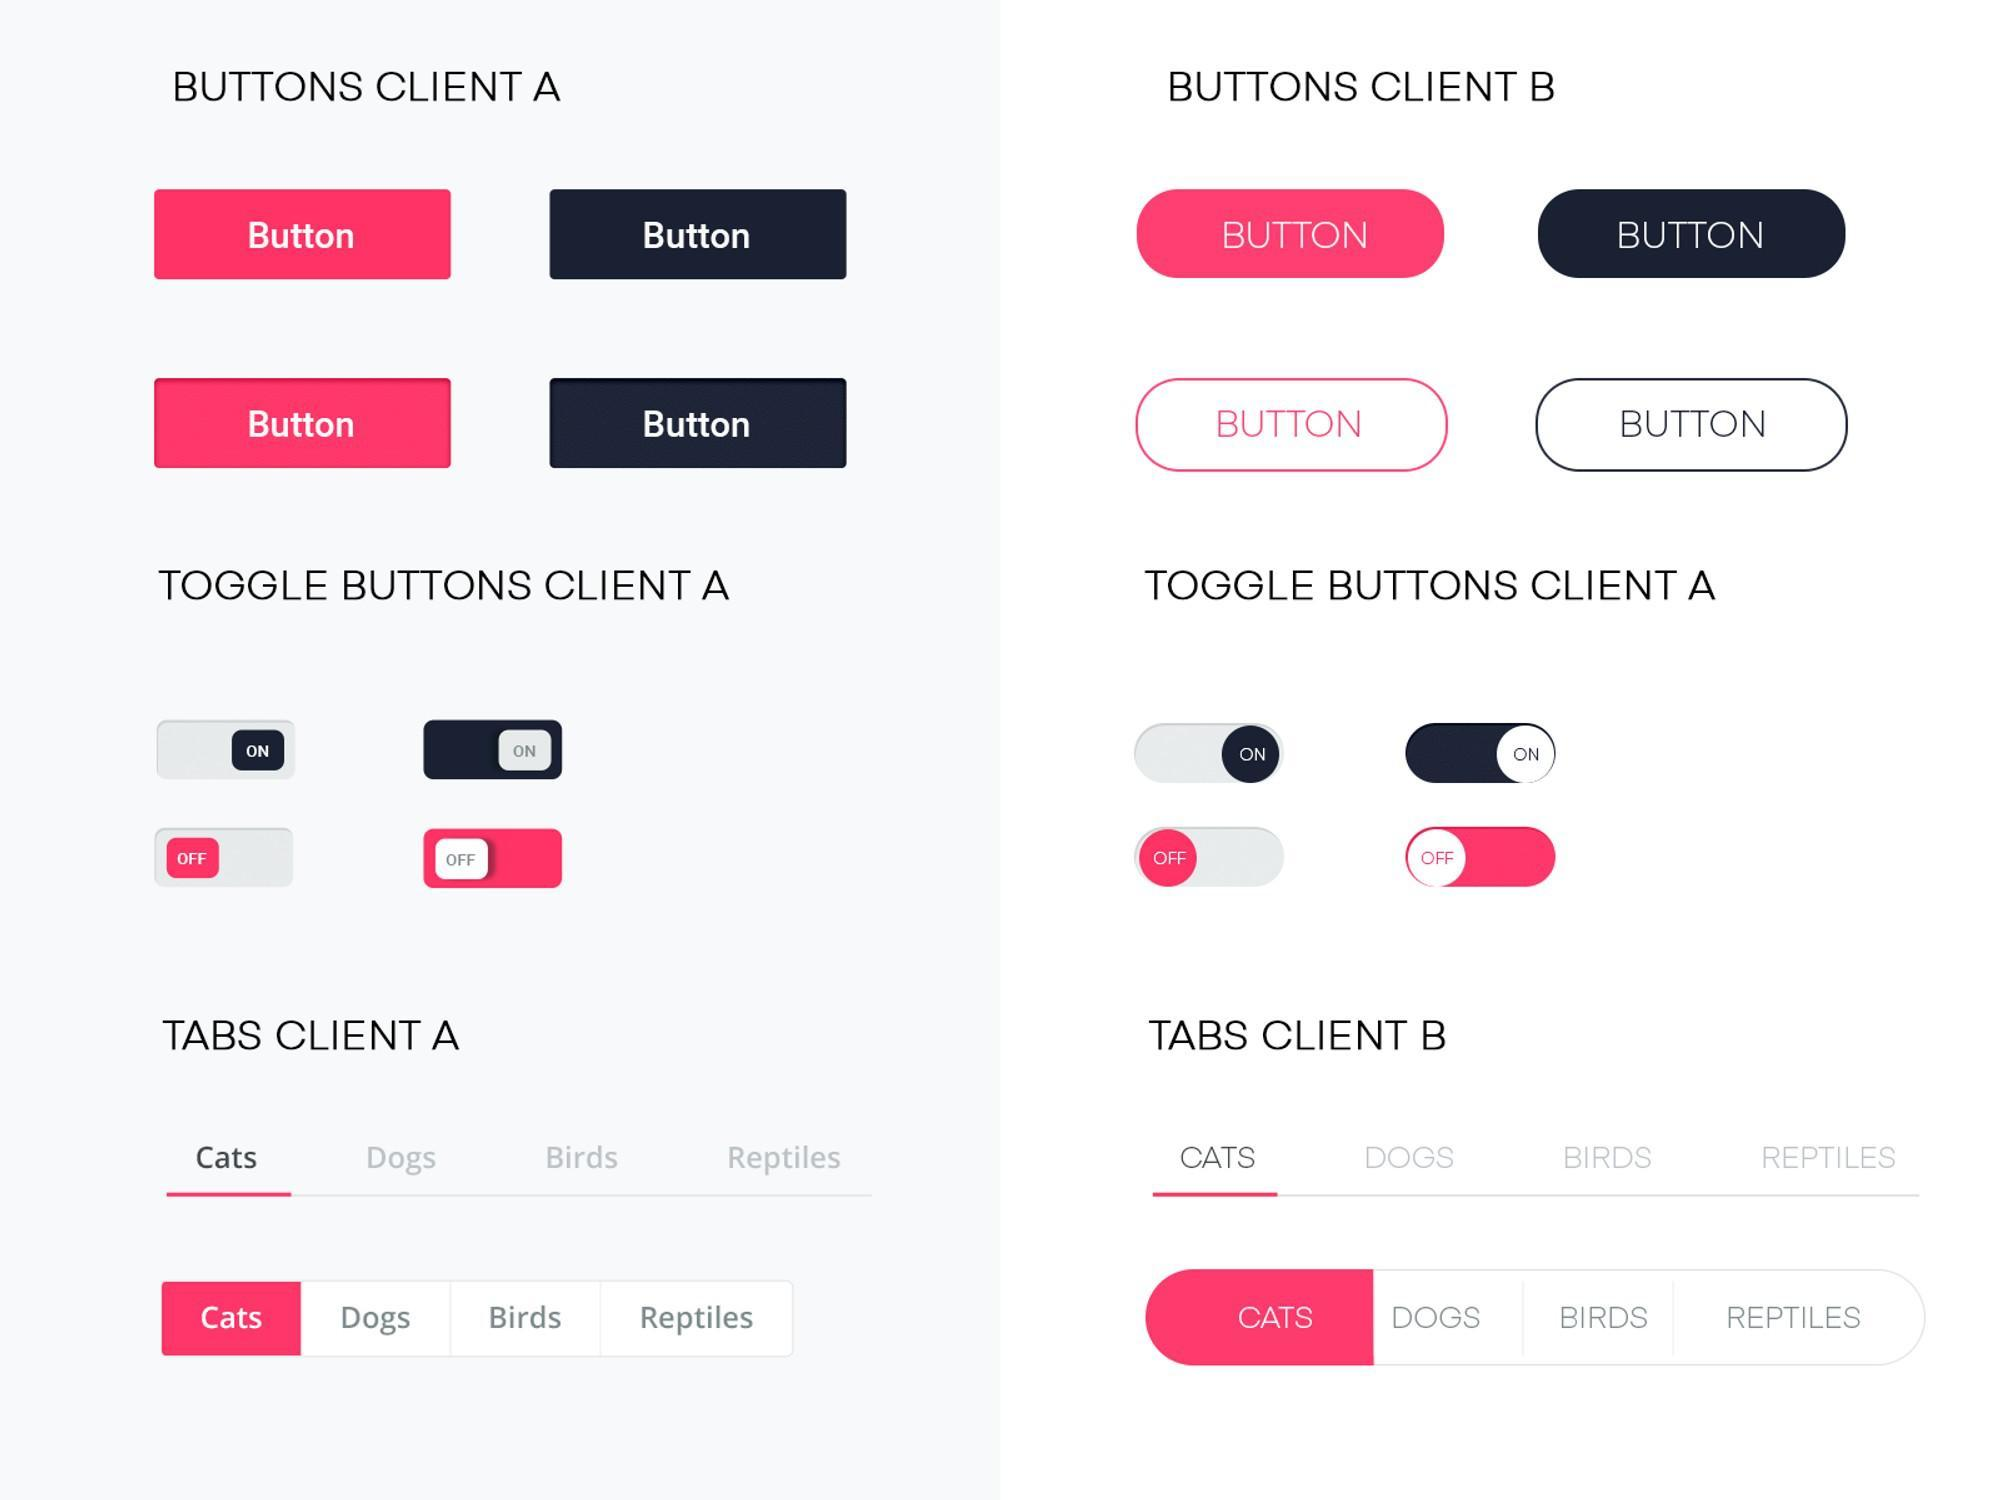button: (1129, 377, 1449, 476), (542, 377, 854, 476), (1534, 377, 1850, 474), (1537, 187, 1849, 284), (151, 187, 450, 284), (1139, 192, 1441, 280), (553, 186, 841, 277), (157, 380, 454, 468)
label: (1143, 551, 1735, 619), (165, 555, 742, 619), (1165, 58, 1570, 124), (153, 61, 578, 118), (154, 1008, 476, 1078), (1117, 1008, 1469, 1070)
switch: (1373, 818, 1576, 897), (1383, 712, 1569, 796), (413, 819, 583, 900), (413, 709, 573, 791), (1129, 816, 1293, 897), (1132, 712, 1290, 791), (146, 819, 301, 895), (150, 715, 302, 785)
